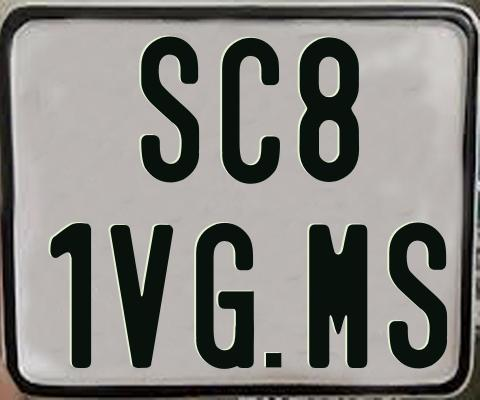1: (49, 223, 92, 374)
8: (297, 36, 359, 187)
C: (222, 36, 280, 184)
G: (194, 220, 252, 367)
M: (306, 221, 367, 368)
S: (139, 33, 199, 182), (388, 219, 447, 366)
V: (109, 223, 178, 367)
